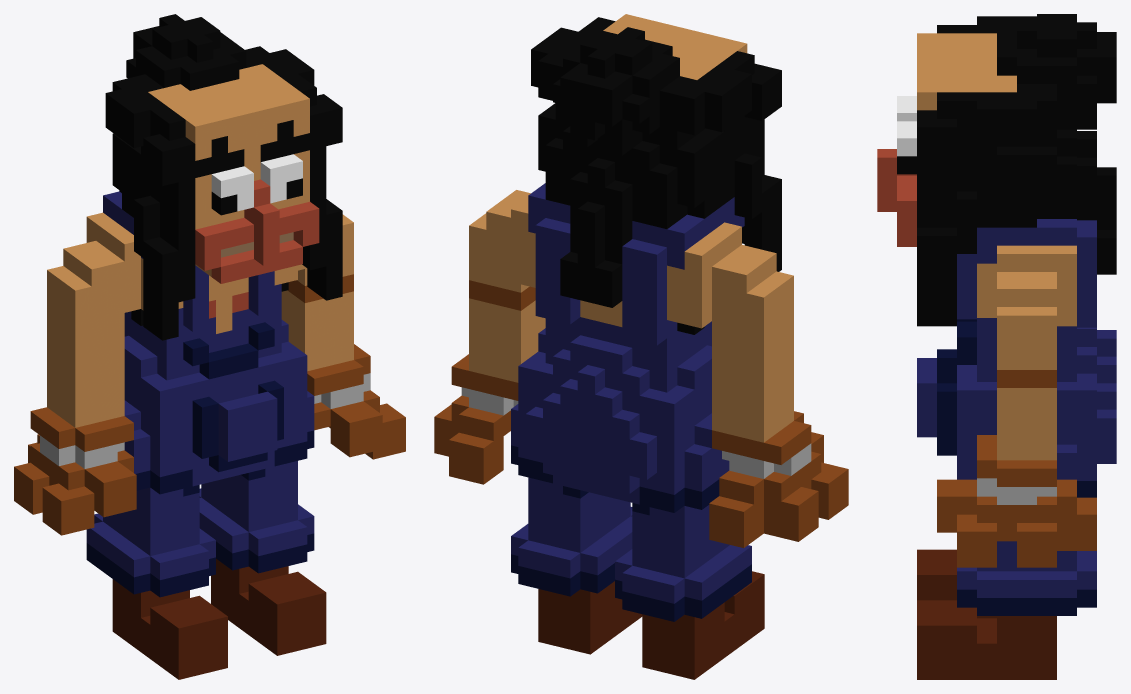
The model's file is Mechanic-6.obj.
3 views of the same model, side by side, from view 1: azimuth 30°, elevation 25°; view 2: azimuth 150°, elevation 25°; view 3: azimuth 270°, elevation 25° (orthographic). The views are drawn at different scales.
Size of the model in its own units: 2.1 by 3.4 by 1.2.
Materials: 1 (1 with a texture image).
